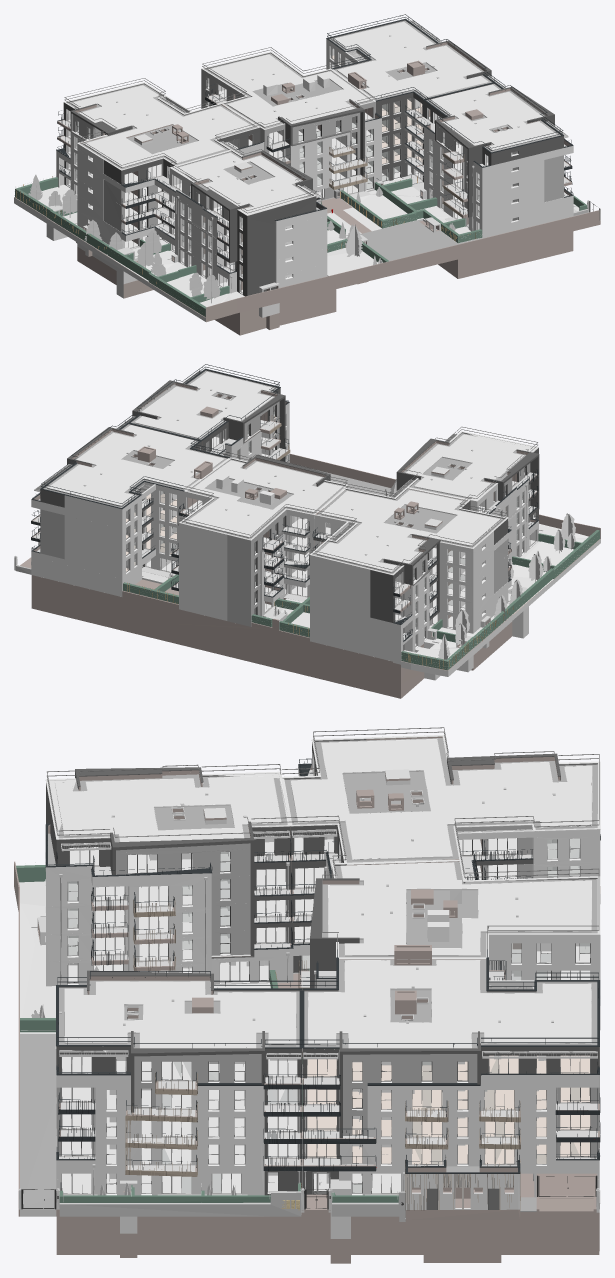
File: maquette-jardins-de-lisa.glb
3 views of the same model, one above another, from view 1: azimuth 30°, elevation 25°; view 2: azimuth 150°, elevation 25°; view 3: azimuth 270°, elevation 25° (orthographic). The views are drawn at different scales.
Parts seen in each view (by area): view 1: Floor Sols <1761807 Accès pompiers - drain 10cm - terre végé, Railing Garde-corps <1775759 Ht 180 cm / Barreaudage Ht 120 , FamilyInstance Fenêtres ARC_FEN_1V_1O_AllVitree_VR_AppuiBeto; view 2: Floor Sols <1761807 Accès pompiers - drain 10cm - terre végé, Railing Garde-corps <1775759 Ht 180 cm / Barreaudage Ht 120 , FamilyInstance Fenêtres ARC_FEN_1V_1O_AllVitree_VR_AppuiBeto; view 3: Floor Sols <1761807 Accès pompiers - drain 10cm - terre végé, Railing Garde-corps <1775759 Ht 180 cm / Barreaudage Ht 120 , FamilyInstance Fenêtres ARC_FEN_1V_1O_AllVitree_VR_AppuiBeto.
Boxes of the visible parts, box(x1,y1,x2,y2) form: Floor Sols <1761807 Accès pompiers - drain 10cm - terre végé: box(14, 14, 600, 335); Railing Garde-corps <1775759 Ht 180 cm / Barreaudage Ht 120 : box(28, 25, 587, 303); FamilyInstance Fenêtres ARC_FEN_1V_1O_AllVitree_VR_AppuiBeto: box(76, 48, 479, 276); Floor Sols <1761807 Accès pompiers - drain 10cm - terre végé: box(14, 364, 600, 698); Railing Garde-corps <1775759 Ht 180 cm / Barreaudage Ht 120 : box(17, 414, 575, 659); FamilyInstance Fenêtres ARC_FEN_1V_1O_AllVitree_VR_AppuiBeto: box(134, 412, 533, 629); Floor Sols <1761807 Accès pompiers - drain 10cm - terre végé: box(14, 727, 600, 1263); Railing Garde-corps <1775759 Ht 180 cm / Barreaudage Ht 120 : box(31, 735, 600, 1208); FamilyInstance Fenêtres ARC_FEN_1V_1O_AllVitree_VR_AppuiBeto: box(68, 839, 589, 1192).
Bounding box in the file's own units: 76.07 × 23.02 × 54.08.
3 materials, 3 textured.
